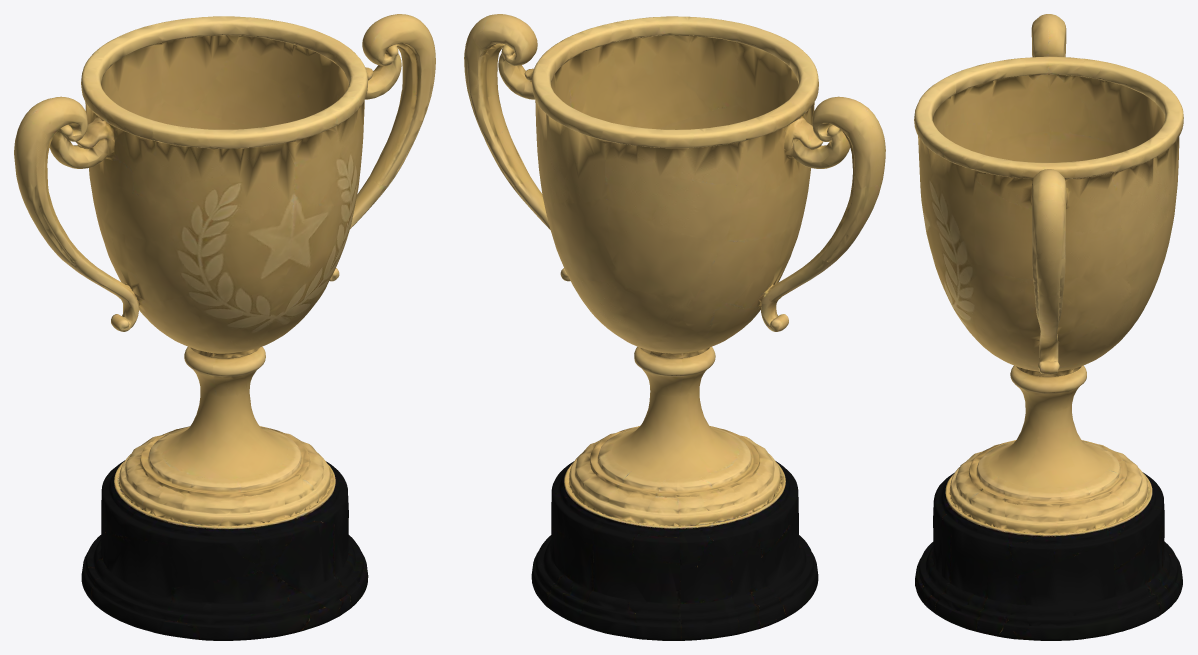
3 renders of one model, left to right at view 1: azimuth 30°, elevation 25°; view 2: azimuth 150°, elevation 25°; view 3: azimuth 270°, elevation 25°, orthographic. The views are drawn at different scales.
Bounding box in the file's own units: 1.58 × 1.9 × 0.946.
Materials: 1 (1 with a texture image).
